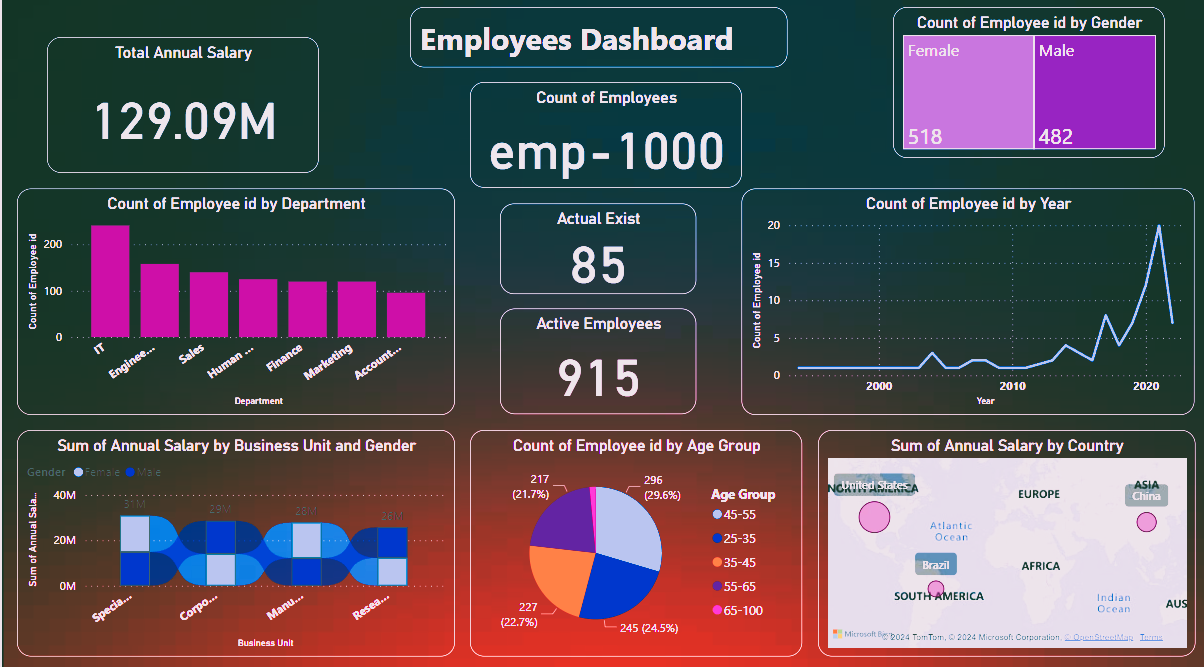

The dashboard page shown, as its layout file describes it:
{"tool":"powerbi","page":{"name":"Employees Dashboard","canvas":[1280,720],"ordinal":0},"visuals":[{"type":"card","title":"Count of Employees","fields":{"Values":["Min(Sheet1.Employee id)"]},"box":[496,96,288,112],"z":0},{"type":"card","title":"Total Annual Salary","fields":{"Values":["Sum(Sheet1.Total Annual Salary)"]},"box":[48,48,288,144],"z":1000},{"type":"card","title":"Actual Exist","fields":{"Values":["Sum(Sheet1.Actual exit)"]},"box":[528,224,208,96],"z":2000},{"type":"columnChart","fields":{"Category":["Sheet1.Department"],"Y":["CountNonNull(Sheet1.Employee id)"]},"box":[16,208,464,240],"z":3000},{"type":"lineChart","fields":{"Category":["Sheet1.Exit Date.Variation.Date Hierarchy.Year"],"Y":["CountNonNull(Sheet1.Employee id)"]},"box":[784,208,480,240],"z":4000},{"type":"pieChart","fields":{"Category":["Sheet1.Age Group"],"Y":["CountNonNull(Sheet1.Employee id)"]},"box":[496,464,352,240],"z":5000},{"type":"ribbonChart","fields":{"Y":["Sum(Sheet1.Annual Salary)"],"Category":["Sheet1.Business Unit"],"Series":["Sheet1.Gender"]},"box":[16,464,464,240],"z":6000},{"type":"map","fields":{"Category":["Sheet1.Country"],"Size":["Sum(Sheet1.Annual Salary)"]},"box":[864,464,400,240],"z":7000},{"type":"treemap","fields":{"Group":["Sheet1.Gender"],"Values":["CountNonNull(Sheet1.Employee id)"]},"box":[944,16,288,160],"z":8000},{"type":"textbox","box":[432,16,400,64],"z":9000},{"type":"card","title":"Active Employees","fields":{"Values":["Sheet1.Active Employee"]},"box":[528,336,208,112],"z":10000}]}

Visuals, with their boxes in screenshot pixels (x1, y1, x2, y2), scaled from the page's 1280x720 canvas onto the 1204x667 screenshot:
"Count of Employees" card: box=[467, 89, 737, 193]
"Total Annual Salary" card: box=[45, 44, 316, 178]
"Actual Exist" card: box=[497, 208, 692, 296]
columnChart - Sheet1.Department x CountNonNull(Sheet1.Employee id): box=[15, 193, 452, 415]
lineChart - Sheet1.Exit Date.Variation.Date Hierarchy.Year x CountNonNull(Sheet1.Employee id): box=[737, 193, 1189, 415]
pieChart - Sheet1.Age Group x CountNonNull(Sheet1.Employee id): box=[467, 430, 798, 652]
ribbonChart - Sum(Sheet1.Annual Salary) x Sheet1.Business Unit: box=[15, 430, 452, 652]
map - Sheet1.Country x Sum(Sheet1.Annual Salary): box=[813, 430, 1189, 652]
treemap - Sheet1.Gender x CountNonNull(Sheet1.Employee id): box=[888, 15, 1159, 163]
textbox: box=[406, 15, 783, 74]
"Active Employees" card: box=[497, 311, 692, 415]
